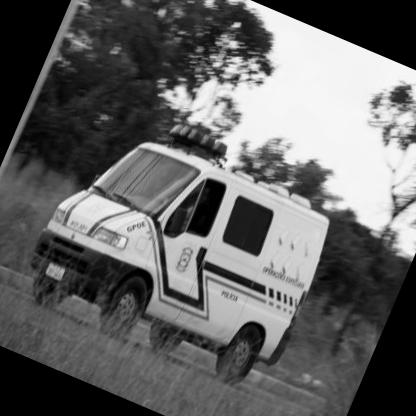ambulance: (1, 66, 378, 413)
